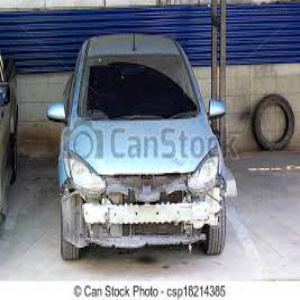bumper: (82, 193, 211, 251)
